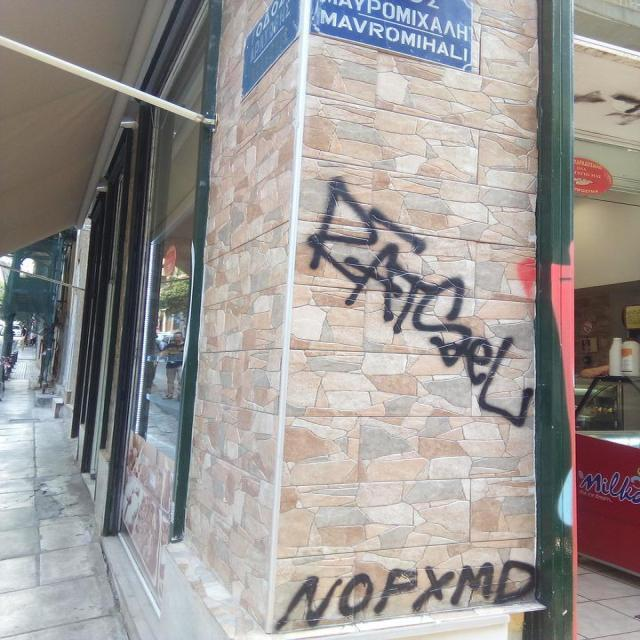nonspitting: (308, 177, 536, 426), (272, 558, 538, 628)
